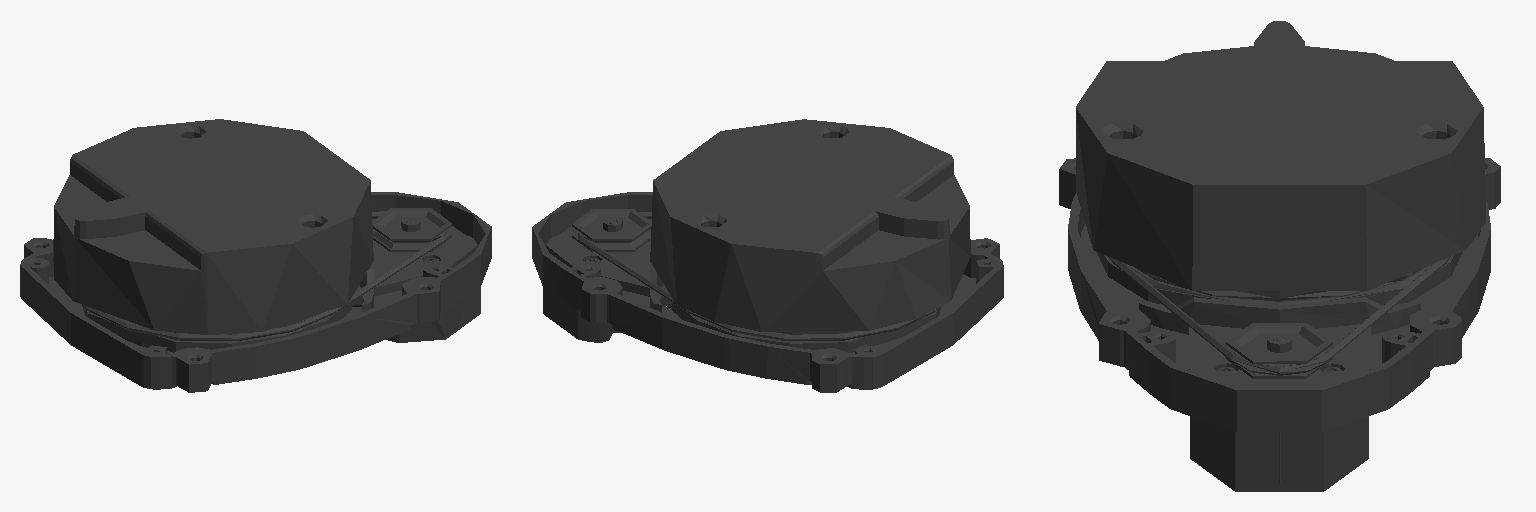
The robot description file, URDF, robot "turtlebot3_waffle":
<?xml version="1.0" ?>
<robot name="turtlebot3_waffle" xmlns:xacro="http://ros.org/wiki/xacro">
  <!-- <xacro:include filename="$(find turtlebot3_description)/urdf/common_properties.urdf"/>

  <xacro:property name="r200_cam_rgb_px" value="0.005"/>
  <xacro:property name="r200_cam_rgb_py" value="0.018"/>
  <xacro:property name="r200_cam_rgb_pz" value="0.013"/>
  <xacro:property name="r200_cam_depth_offset" value="0.01"/> -->

  <!-- Init colour -->
  <material name="black">
      <color rgba="0.0 0.0 0.0 1.0"/>
  </material>

  <material name="dark">
    <color rgba="0.3 0.3 0.3 1.0"/>
  </material>

  <material name="light_black">
    <color rgba="0.4 0.4 0.4 1.0"/>
  </material>

  <material name="blue">
    <color rgba="0.0 0.0 0.8 1.0"/>
  </material>

  <material name="green">
    <color rgba="0.0 0.8 0.0 1.0"/>
  </material>

  <material name="grey">
    <color rgba="0.5 0.5 0.5 1.0"/>
  </material>

  <material name="orange">
    <color rgba="1.0 0.4235 0.0392 1.0"/>
  </material>

  <material name="brown">
    <color rgba="0.8706 0.8118 0.7647 1.0"/>
  </material>

  <material name="red">
    <color rgba="0.8 0.0 0.0 1.0"/>
  </material>

  <material name="white">
    <color rgba="1.0 1.0 1.0 1.0"/>
  </material>

  <link name="base_footprint"/>

  <joint name="base_joint" type="fixed">
    <parent link="base_footprint"/>
    <child link="base_link" />
    <origin xyz="0 0 0.010" rpy="0 0 0"/>
  </joint>

  <link name="base_link">
    <visual>
      <origin xyz="-0.064 0 0.1" rpy="0 0 0"/>
      <geometry>
        <mesh filename="package://turtlebot3_gazebo/models/turtlebot3_common/meshes/waffle_base.dae"/>
      </geometry>
      <material name="light_black"/>
    </visual>

    <collision>
      <origin xyz="-0.064 0 0.1" rpy="0 0 0"/>
      <geometry>
        <box size="0.53 0.53 0.183"/>
      </geometry>
    </collision>

    <inertial>
      <origin xyz="-0.064 0 0.1" rpy="0 0 0"/>
      <mass value="1.3729096e+00"/>
      <inertia ixx="4.2111447e-02" ixy="0" ixz="0"
               iyy="4.2111447e-02" iyz="0"
               izz="7.5254874e-02" />
    </inertial>
  </link>

  <joint name="wheel_left_joint" type="continuous">
    <parent link="base_link"/>
    <child link="wheel_left_link"/>
    <origin xyz="0.0 0.144 0.023" rpy="-1.57 0 0"/>
    <axis xyz="0 0 1"/>
  </joint>

  <link name="wheel_left_link">
    <visual>
      <origin xyz="0 0.28 0.023" rpy="1.57 0 0"/>
      <geometry>
        <mesh filename="package://turtlebot3_gazebo/models/turtlebot3_common/meshes/tire.dae"/>
      </geometry>
      <material name="dark"/>
    </visual>

    <collision>
      <origin xyz="0 0.28 0.023" rpy="1.57 0 0"/>
      <geometry>
        <cylinder length="0.035" radius="0.066"/>
      </geometry>
    </collision>

    <inertial>
      <origin xyz="0 0.28 0.023" rpy="1.57 0 0"/>
      <mass value="0.2" />
      <inertia ixx="0.00023821666666666672" ixy="0" ixz="0"
               iyy="0.00023821666666666672" iyz="0"
               izz="0.00043560000000000007" />
      </inertial>
  </link>

  <joint name="wheel_right_joint" type="continuous">
    <parent link="base_link"/>
    <child link="wheel_right_link"/>
    <origin xyz="0.0 -0.144 0.023" rpy="-1.57 0 0"/>
    <axis xyz="0 0 1"/>
  </joint>

  <link name="wheel_right_link">
    <visual>
      <origin xyz="0.0 -0.28 0.023" rpy="1.57 0 0"/>
      <geometry>
        <mesh filename="package://turtlebot3_gazebo/models/turtlebot3_common/meshes/tire.dae"/>
      </geometry>
      <material name="dark"/>
    </visual>

    <collision>
      <origin xyz="0.0 -0.28 0.023" rpy="1.57 0 0"/>
      <geometry>
        <cylinder length="0.035" radius="0.066"/>
      </geometry>
    </collision>

    <inertial>
      <origin xyz="0.0 -0.28 0.023" rpy="1.57 0 0"/>
      <mass value="0.2" />
      <inertia ixx="0.00023821666666666672" ixy="0" ixz="0"
               iyy="0.00023821666666666672" iyz="0"
               izz="0.00043560000000000007" />
      </inertial>
  </link>

  <joint name="caster_back_right_joint" type="fixed">
    <parent link="base_link"/>
    <child link="caster_back_right_link"/>
  </joint>

  <link name="caster_back_right_link">
    <collision>
      <origin xyz="-0.25 -0.18 -0.004" rpy="-1.57 0 0"/>
      <geometry>
        <sphere radius="0.03"/>
      </geometry>
    </collision>

    <inertial>
      <origin xyz="-0.25 -0.18 -0.004" rpy="-1.57 0 0"/>
      <mass value="1.0" />
      <inertia ixx="0.00036" ixy="0.0" ixz="0.0"
               iyy="0.00036" iyz="0.0"
               izz="0.00036" />
    </inertial>
  </link>

  <joint name="caster_back_left_joint" type="fixed">
    <parent link="base_link"/>
    <child link="caster_back_left_link"/>
  </joint>

  <link name="caster_back_left_link">
    <collision>
      <origin xyz="-0.25 0.18 -0.004" rpy="-1.57 0 0"/>
      <geometry>
        <sphere radius="0.03"/>
      </geometry>
    </collision>

    <inertial>
      <origin xyz="-0.25 0.18 -0.004" rpy="-1.57 0 0"/>
      <mass value="1.0" />
      <inertia ixx="0.00036" ixy="0.0" ixz="0.0"
               iyy="0.00036" iyz="0.0"
               izz="0.00036" />
    </inertial>
  </link>

  <joint name="imu_joint" type="fixed">
    <parent link="base_link"/>
    <child link="imu_link"/>
    <origin xyz="-0.032 0 0.068" rpy="0 0 0"/>
  </joint>

  <link name="imu_link"/>

  <joint name="scan_joint" type="fixed">
    <parent link="base_link"/>
    <child link="base_scan"/>
    <origin xyz="-0.064 0 0.121" rpy="0 0 0"/>
  </joint>

  <link name="base_scan">
    <visual>
      <origin xyz="-0.052 0 0.211" rpy="0 0 0"/>
      <geometry>
        <mesh filename="package://turtlebot3_gazebo/models/turtlebot3_common/meshes/lds.dae" scale="0.001 0.001 0.001"/>
      </geometry>
      <material name="dark"/>
    </visual>

    <collision>
      <origin xyz="0.015 0 -0.0065" rpy="0 0 0"/>
      <geometry>
        <cylinder length="0.0315" radius="0.055"/>
      </geometry>
    </collision>

    <inertial>
      <mass value="0.114" />
      <origin xyz="-0.052 0 0.211" />
      <inertia ixx="0.001" ixy="0.0" ixz="0.0"
               iyy="0.001" iyz="0.0"
               izz="0.001" />
    </inertial>
  </link>

  <joint name="camera_joint" type="fixed">
    <origin xyz="0.064 -0.065 0.094" rpy="0 0 0"/>
    <parent link="base_link"/>
    <child link="camera_link"/>
  </joint>

  <link name="camera_link">
    <visual>
     <origin xyz="0 0 0" rpy="1.57 0 1.57"/>
      <geometry>
       <mesh filename="package://turtlebot3_gazebo/models/turtlebot3_common/meshes/r200.dae" />
      </geometry>
    </visual>
    <!--collision>
      <origin xyz="0.003 0.065 0.007" rpy="0 0 0"/>
      <geometry>
        <box size="0.012 0.132 0.020"/>
      </geometry>
    </collision-->

    <!-- This inertial field needs doesn't contain reliable data!! -->
<!--   <inertial>
      <mass value="0.564" />
      <origin xyz="0 0 0" />
      <inertia ixx="0.003881243" ixy="0.0" ixz="0.0"
               iyy="0.000498940" iyz="0.0"
               izz="0.003879257" />
    </inertial>-->
  </link>

  <joint name="camera_rgb_joint" type="fixed">
    <origin xyz="0.005 0.018 0.013" rpy="0 0 0"/>
    <!-- <origin xyz="${r200_cam_rgb_px} ${r200_cam_rgb_py} ${r200_cam_rgb_pz}" rpy="0 0 0"/> -->
    <parent link="camera_link"/>
    <child link="camera_rgb_frame"/>
  </joint>
  <link name="camera_rgb_frame"/>

  <joint name="camera_rgb_optical_joint" type="fixed">
    <origin xyz="0 0 0" rpy="-1.57 0 -1.57"/>
    <parent link="camera_rgb_frame"/>
    <child link="camera_rgb_optical_frame"/>
  </joint>
  <link name="camera_rgb_optical_frame"/>

  <joint name="camera_depth_joint" type="fixed">
    <origin xyz="0.005 0.028 0.013" rpy="0 0 0"/>
    <!-- <origin xyz="${r200_cam_rgb_px} ${r200_cam_rgb_py + r200_cam_depth_offset} ${r200_cam_rgb_pz}" rpy="0 0 0"/> -->
    <parent link="camera_link"/>
    <child link="camera_depth_frame"/>
  </joint>
  <link name="camera_depth_frame"/>

  <joint name="camera_depth_optical_joint" type="fixed">
    <origin xyz="0 0 0" rpy="-1.57 0 -1.57"/>
    <parent link="camera_depth_frame"/>
    <child link="camera_depth_optical_frame"/>
  </joint>
  <link name="camera_depth_optical_frame"/>

</robot>

--- What the picture shows (computed from the rendered views, not written in the file) ---
The picture shows the robot from 3 angles, left to right: view 1: azimuth 30°, elevation 25°; view 2: azimuth 150°, elevation 25°; view 3: azimuth 270°, elevation 25°; orthographic projection.
Model turtlebot3_waffle with 13 links and 12 joints (2 continuous, 10 fixed), rooted at base_footprint, posed every joint at zero.
Links seen in each view (by area): view 1: base_scan; view 2: base_scan; view 3: base_scan.
Link boxes in pixels (x1,y1,x2,y2): base_scan: [20, 119, 491, 392]; base_scan: [532, 119, 1003, 392]; base_scan: [1059, 21, 1500, 491].
Bounding box of the posed robot: 0.0019 × 0.0014 × 0.0008 m (x, y, z).
Meshes: 4 distinct files referenced, 1 mesh visuals loaded (1 Collada DAE); not drawn: 4 (reference not matched to a file when rendering).